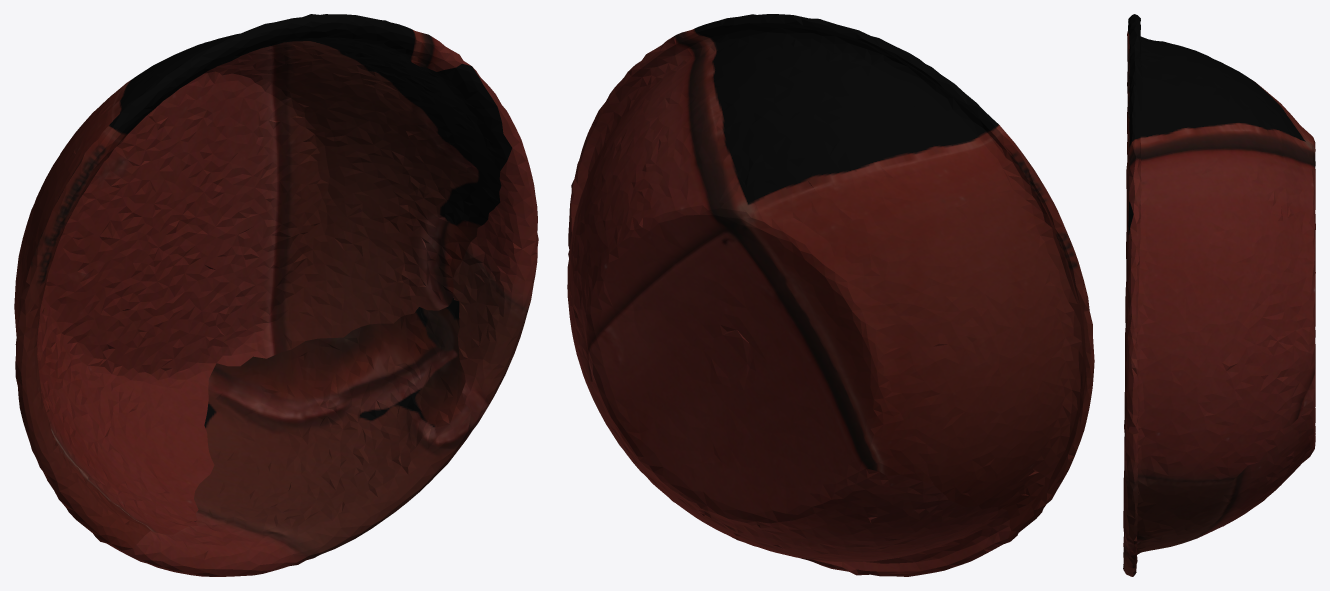
3 renders of one model, left to right at view 1: azimuth 30°, elevation 25°; view 2: azimuth 150°, elevation 25°; view 3: azimuth 270°, elevation 25°, orthographic. The views are drawn at different scales.
Size of the model in its own units: 0.1615 by 0.1612 by 0.055.
